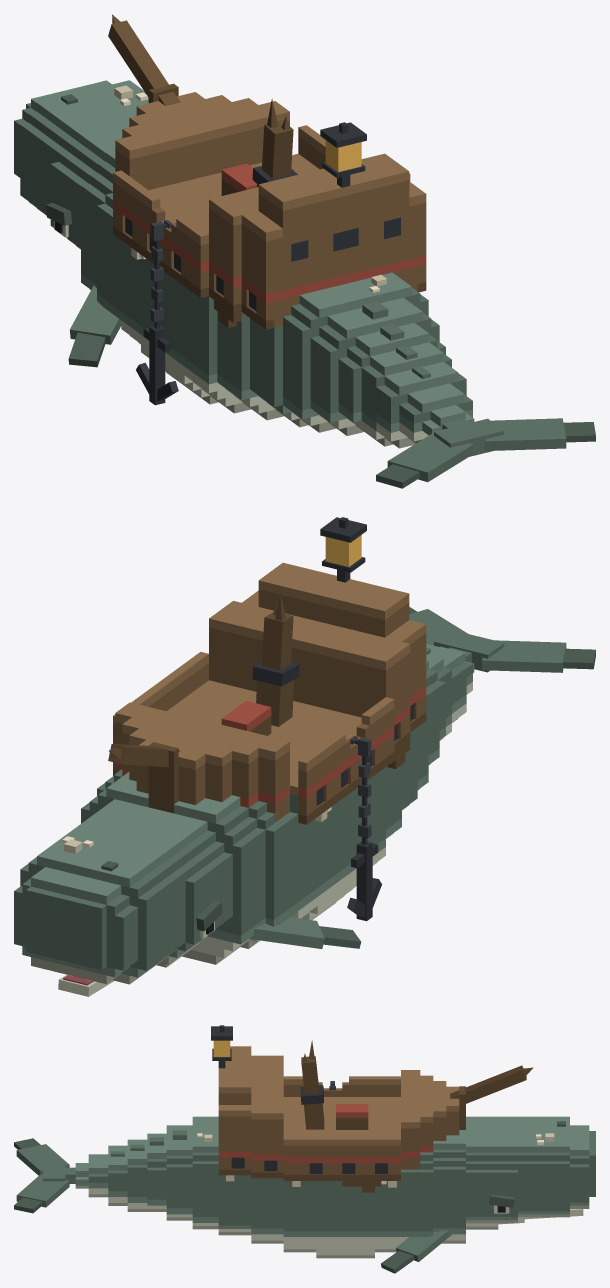
The model's file is GalleonWhale.obj.
The picture shows the model from 3 angles, top to bottom: view 1: azimuth 30°, elevation 25°; view 2: azimuth 150°, elevation 25°; view 3: azimuth 270°, elevation 25°; orthographic projection. The views are drawn at different scales.
Parts seen in each view (by area): view 1: Hull, Head, Tail, T1, T2, T3, T5, T4, FlipL, T6, T7; view 2: Hull, Head, Tail, FlipL, T5, T2, T1, T4, Jaw; view 3: Hull, Head, T1, Tail, T2, T3, T4, FlipR, T5, T6, T7.
Part boxes in pixels (x1=…): Hull: x1=81, y1=14, x2=426, y2=427; Head: x1=14, y1=80, x2=148, y2=249; Tail: x1=376, y1=418, x2=595, y2=488; T1: x1=283, y1=272, x2=428, y2=432; T2: x1=310, y1=297, x2=439, y2=435; T3: x1=338, y1=323, x2=445, y2=435; T5: x1=376, y1=362, x2=466, y2=448; T4: x1=361, y1=342, x2=451, y2=446; FlipL: x1=68, y1=285, x2=121, y2=367; T6: x1=399, y1=383, x2=472, y2=443; T7: x1=422, y1=405, x2=474, y2=435; Hull: x1=81, y1=517, x2=426, y2=964; Head: x1=14, y1=799, x2=232, y2=984; Tail: x1=409, y1=607, x2=595, y2=672; FlipL: x1=249, y1=917, x2=361, y2=948; T5: x1=426, y1=647, x2=466, y2=722; T2: x1=426, y1=674, x2=439, y2=765; T1: x1=417, y1=693, x2=428, y2=790; T4: x1=426, y1=654, x2=451, y2=740; Jaw: x1=58, y1=974, x2=113, y2=996; Hull: x1=211, y1=1025, x2=533, y2=1258; Head: x1=466, y1=1116, x2=595, y2=1229; T1: x1=192, y1=1116, x2=218, y2=1229; Tail: x1=14, y1=1138, x2=75, y2=1213; T2: x1=166, y1=1125, x2=192, y2=1220; T3: x1=147, y1=1133, x2=166, y2=1211; T4: x1=127, y1=1139, x2=147, y2=1211; FlipR: x1=381, y1=1230, x2=451, y2=1273; T5: x1=108, y1=1145, x2=127, y2=1205; T6: x1=88, y1=1154, x2=108, y2=1197; T7: x1=75, y1=1163, x2=88, y2=1188.
Bounding box in the file's own units: 17.37 × 17.95 × 44.74.
Materials: 1 (1 with a texture image).
